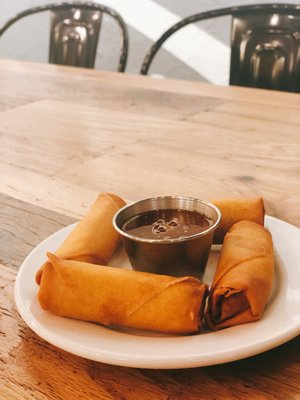sushi: (114, 195, 223, 281)
